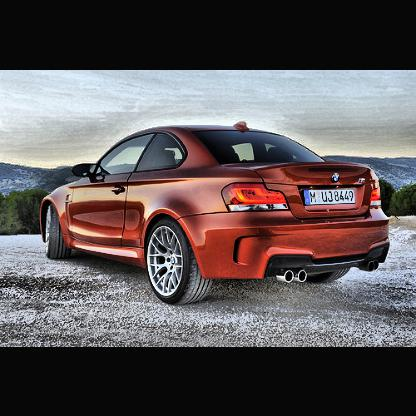BMW 1 Series Coupe 2012: (42, 117, 394, 305)
